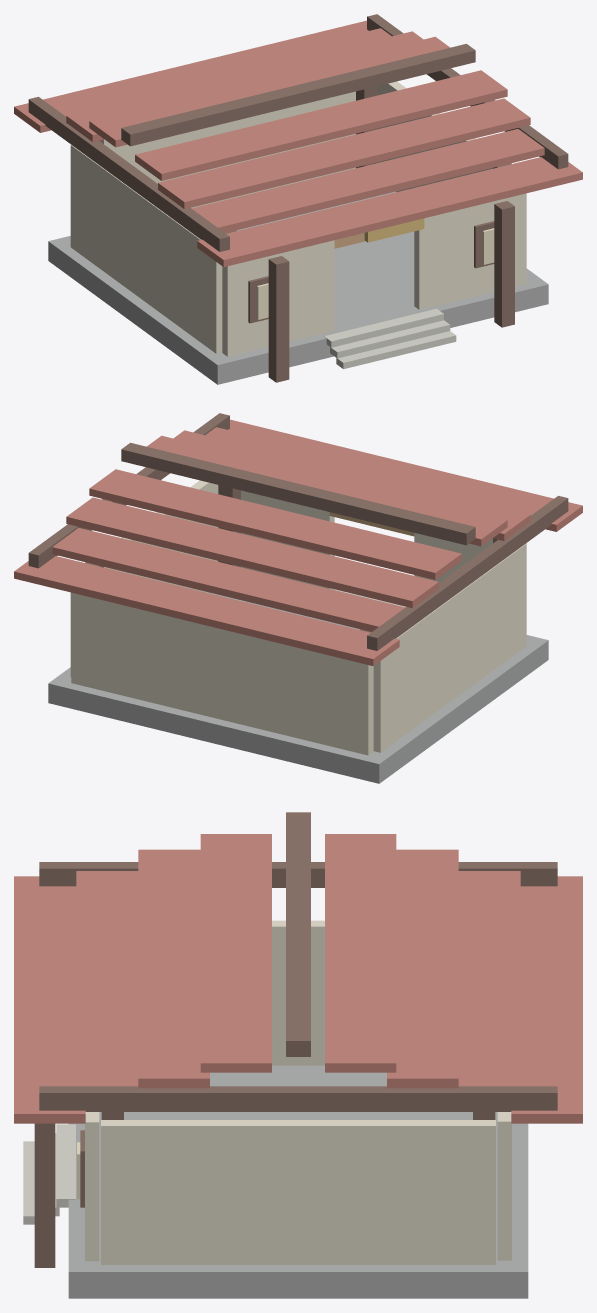
The model's file is temple_hall_8m.glb.
3 views of the same model, one above another, from view 1: azimuth 30°, elevation 25°; view 2: azimuth 150°, elevation 25°; view 3: azimuth 270°, elevation 25° (orthographic). The views are drawn at different scales.
Visible parts, largest first — view 1: roof_red, plaster, wood_dark, stone, stone_light, paper, gold; view 2: roof_red, plaster, stone, wood_dark; view 3: roof_red, plaster, wood_dark, stone, stone_light.
Boxes of the visible parts, x1,y1,x2,y2 form: roof_red: [14, 20, 582, 266]; plaster: [70, 81, 526, 356]; wood_dark: [28, 14, 568, 382]; stone: [48, 191, 548, 384]; stone_light: [324, 308, 456, 369]; paper: [257, 228, 494, 319]; gold: [364, 218, 424, 242]; roof_red: [14, 419, 582, 665]; plaster: [70, 480, 526, 755]; stone: [48, 590, 548, 783]; wood_dark: [28, 413, 568, 650]; roof_red: [14, 834, 582, 1123]; plaster: [85, 920, 511, 1264]; wood_dark: [34, 812, 557, 1267]; stone: [68, 1065, 528, 1298]; stone_light: [23, 1124, 75, 1224].
Bounding box in the file's own units: 9.55 × 4.91 × 9.65.
